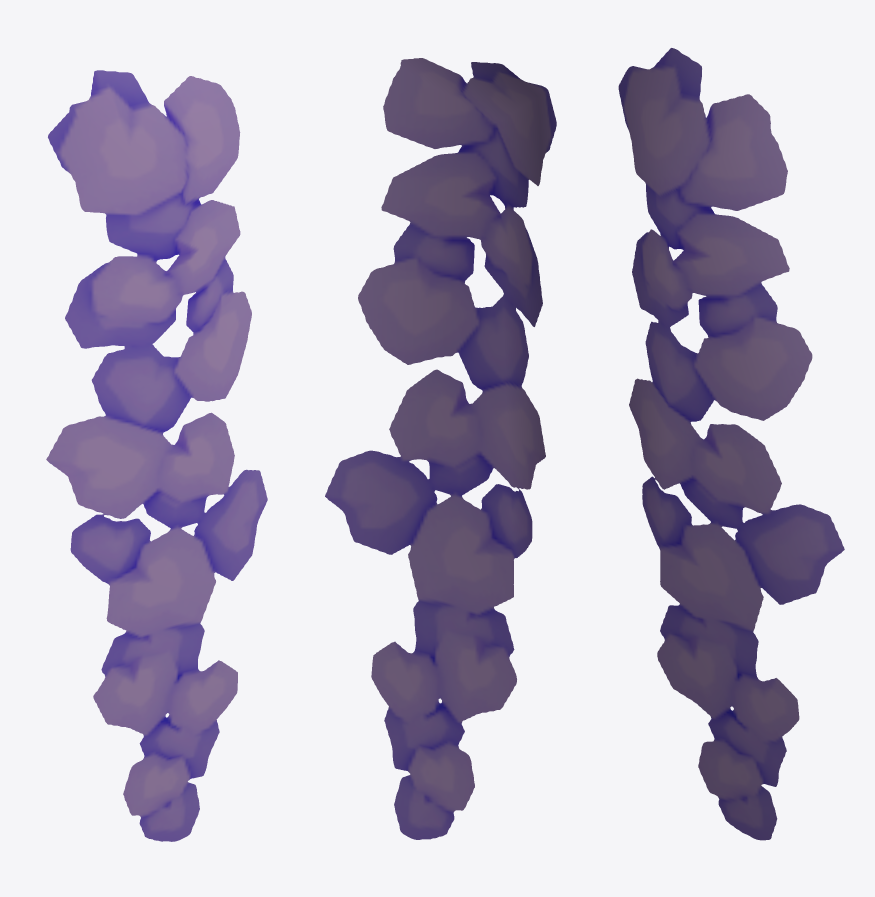
The model's file is SM_Env_Flowers_Line_05.fbx.
3 renders of one model, left to right at view 1: azimuth 30°, elevation 25°; view 2: azimuth 150°, elevation 25°; view 3: azimuth 330°, elevation 25°, orthographic. The views are drawn at different scales.
Visible parts, largest first — view 1: SM_Env_Flowers_Line_05; view 2: SM_Env_Flowers_Line_05; view 3: SM_Env_Flowers_Line_05.
Boxes of the visible parts, x1,y1,x2,y2 form: SM_Env_Flowers_Line_05: (46, 70, 267, 841); SM_Env_Flowers_Line_05: (325, 58, 556, 839); SM_Env_Flowers_Line_05: (618, 48, 844, 840).
Size of the model in its own units: 22.98 by 68.61 by 6.76.
